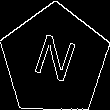N_S: (29, 31, 81, 90)
